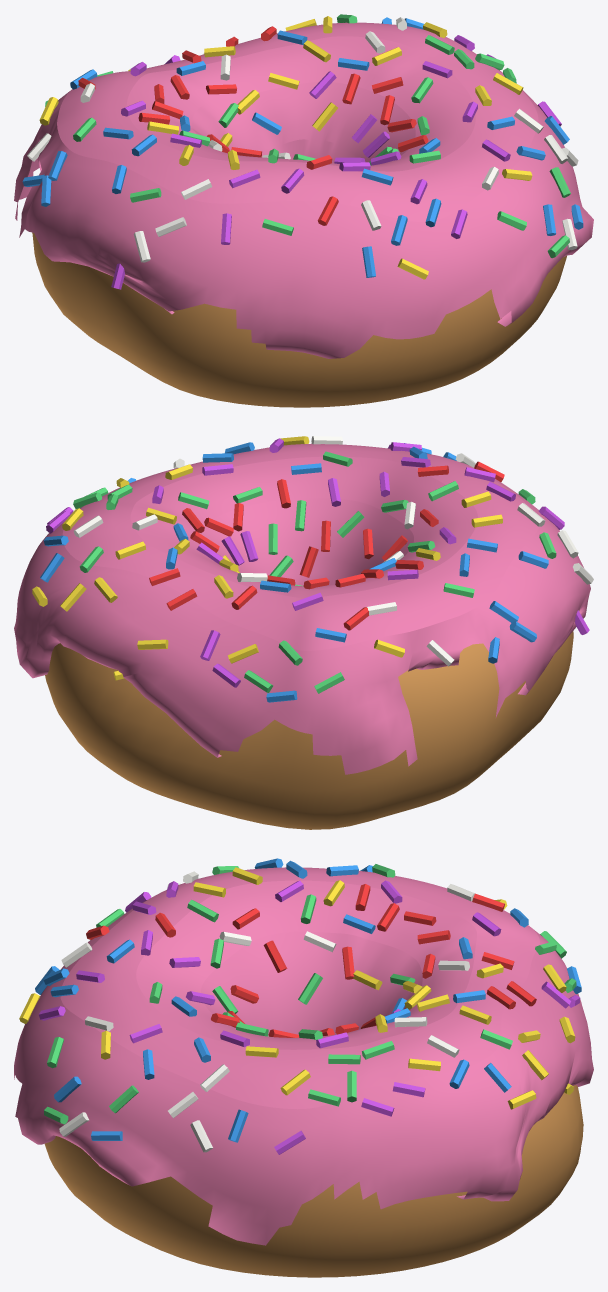
File: donut.glb
The picture shows the model from 3 angles, top to bottom: view 1: azimuth 30°, elevation 25°; view 2: azimuth 150°, elevation 25°; view 3: azimuth 270°, elevation 25°; orthographic projection. The views are drawn at different scales.
Visible parts, largest first — view 1: Icing, Donut, Sprinkles; view 2: Icing, Donut, Sprinkles; view 3: Icing, Donut, Sprinkles.
Boxes of the visible parts, <box> form: Icing: <box>14,22,593,358</box>; Donut: <box>32,232,566,407</box>; Sprinkles: <box>22,14,583,289</box>; Icing: <box>14,443,590,774</box>; Donut: <box>45,631,573,829</box>; Sprinkles: <box>32,436,593,702</box>; Icing: <box>14,867,593,1245</box>; Donut: <box>44,1085,583,1277</box>; Sprinkles: <box>19,858,581,1154</box>.
Bounding box in the file's own units: 0.1268 × 0.0591 × 0.1231.
